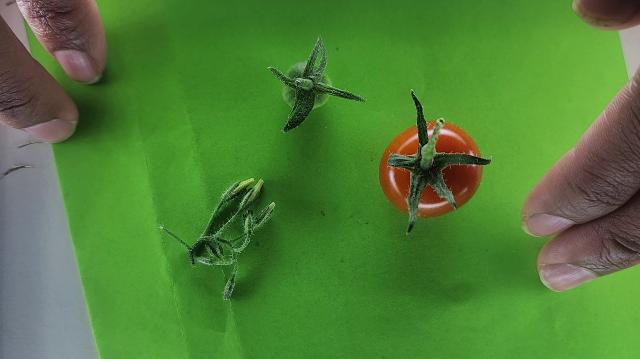Flower Bud: (223, 271, 237, 300), (260, 202, 276, 222)
Fruit Maturation: (282, 63, 331, 111)
Fully Grown: (378, 121, 485, 218)
